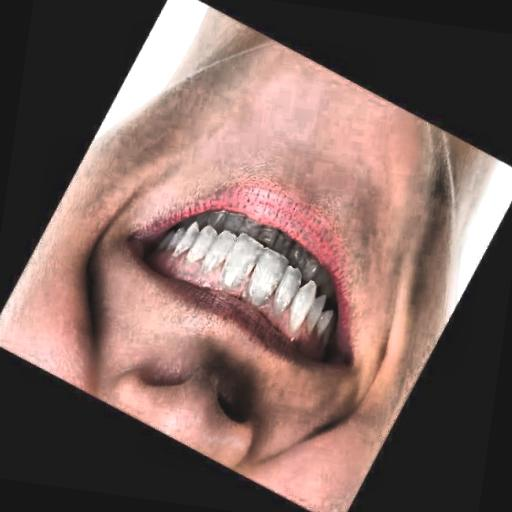Healthy: (68, 83, 375, 450)
